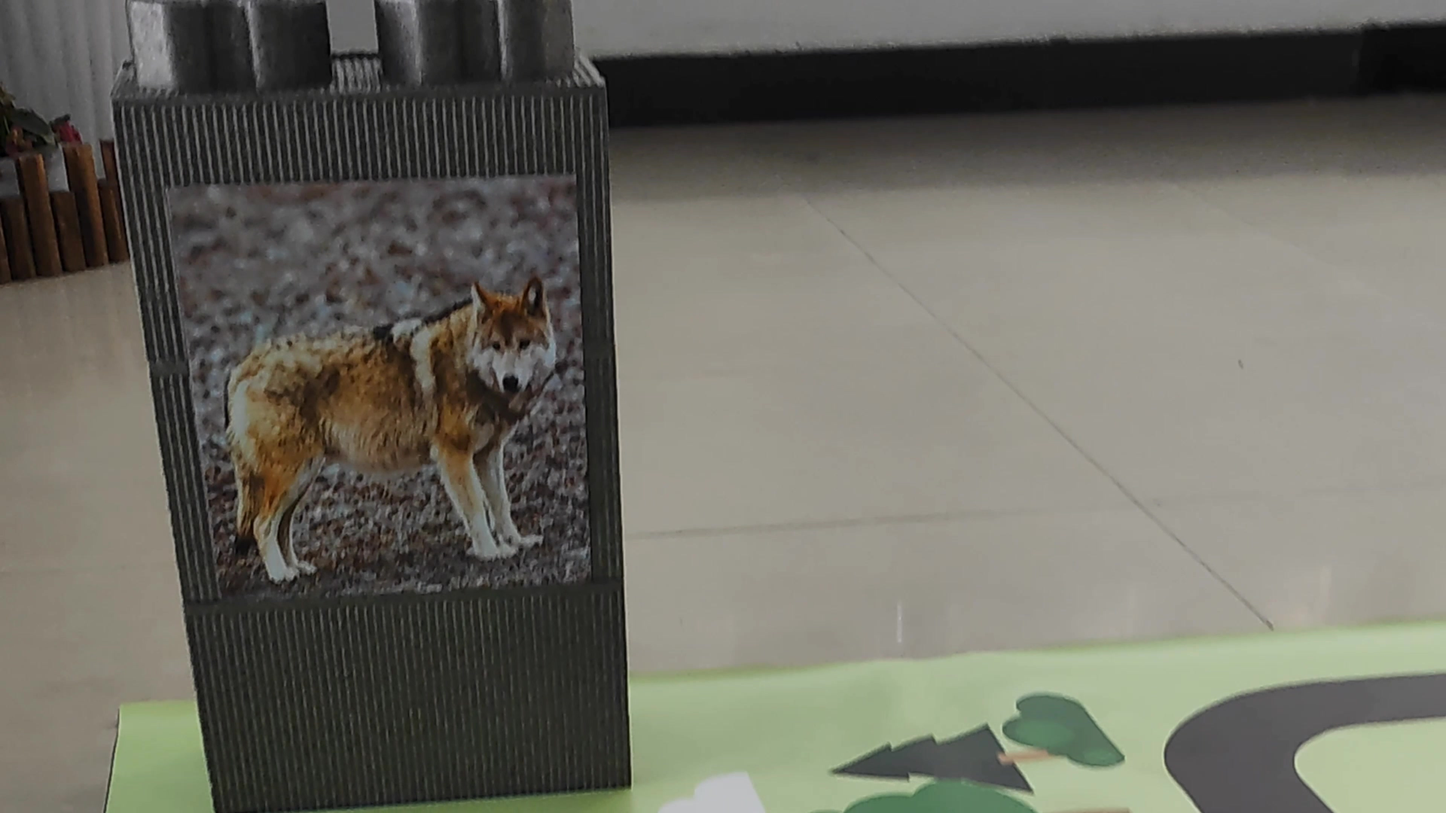wolf: (228, 219, 570, 589)
